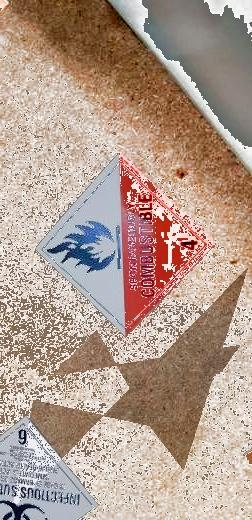infectious-substance: (1, 420, 101, 519)
spontaneously-combustible: (33, 152, 215, 335)
